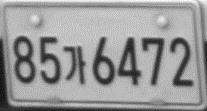2: (169, 36, 194, 87)
4: (117, 37, 141, 85)
5: (39, 36, 61, 84)
6: (91, 35, 115, 85)
7: (141, 36, 164, 85)
8: (13, 35, 36, 83)
가: (63, 45, 86, 85)
